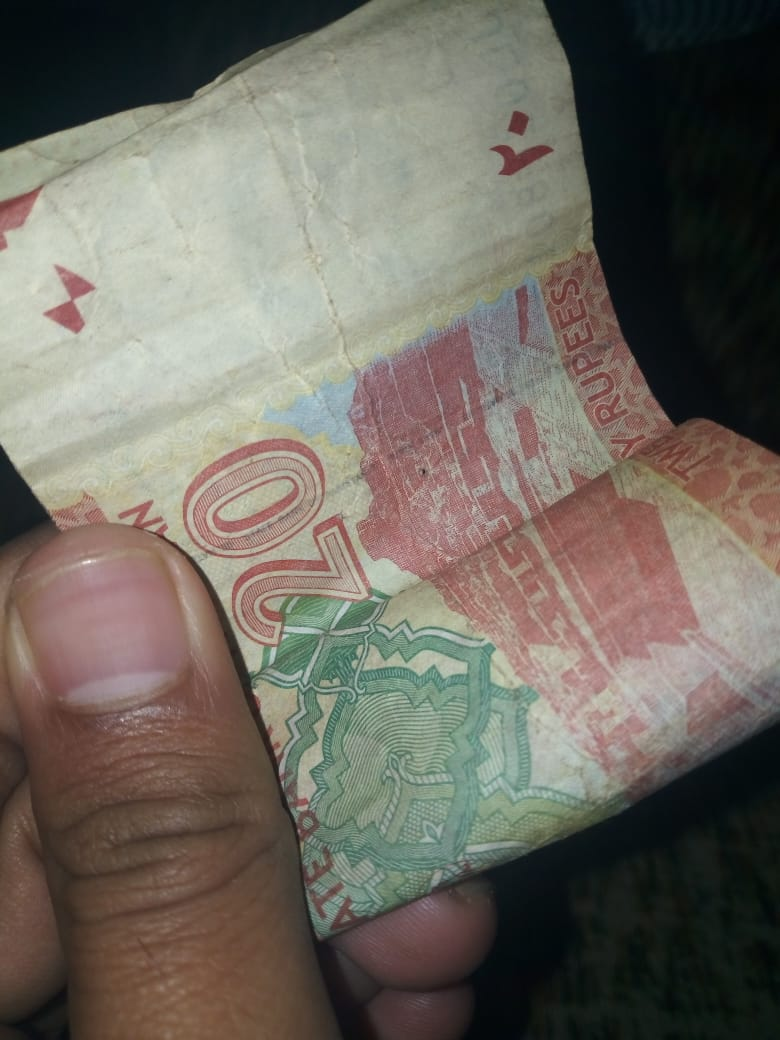20 rupee: (12, 35, 766, 960)
